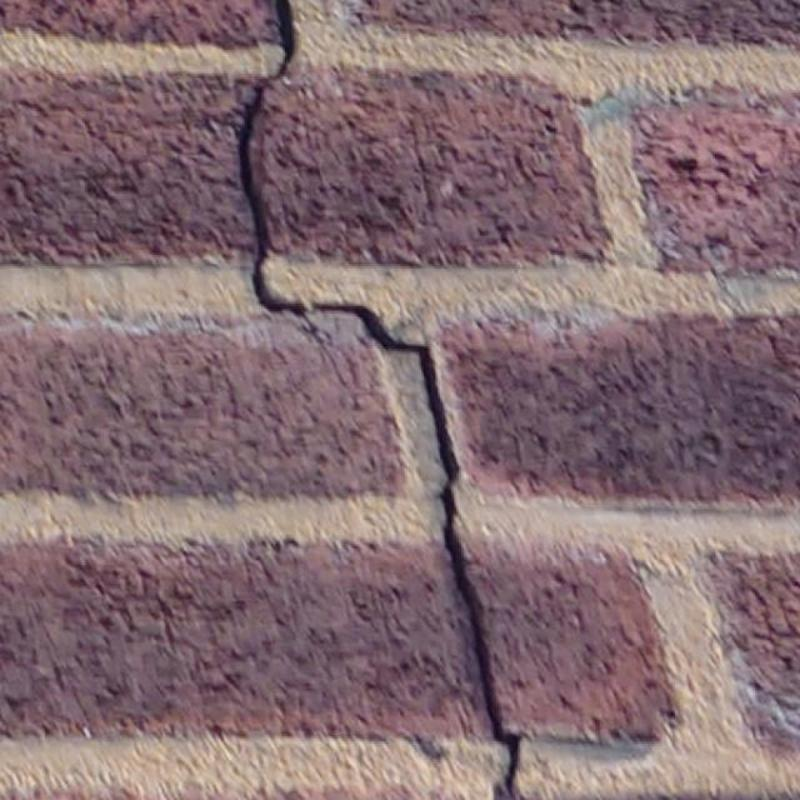pothole: (239, 0, 520, 799)
